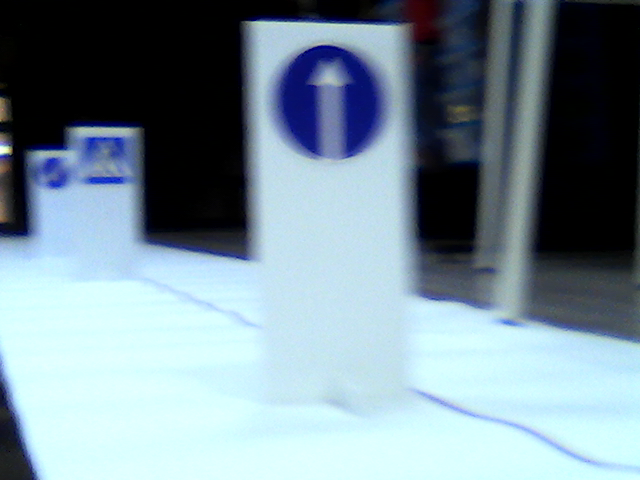forw: (277, 44, 379, 154)
pesh: (81, 134, 136, 187)
